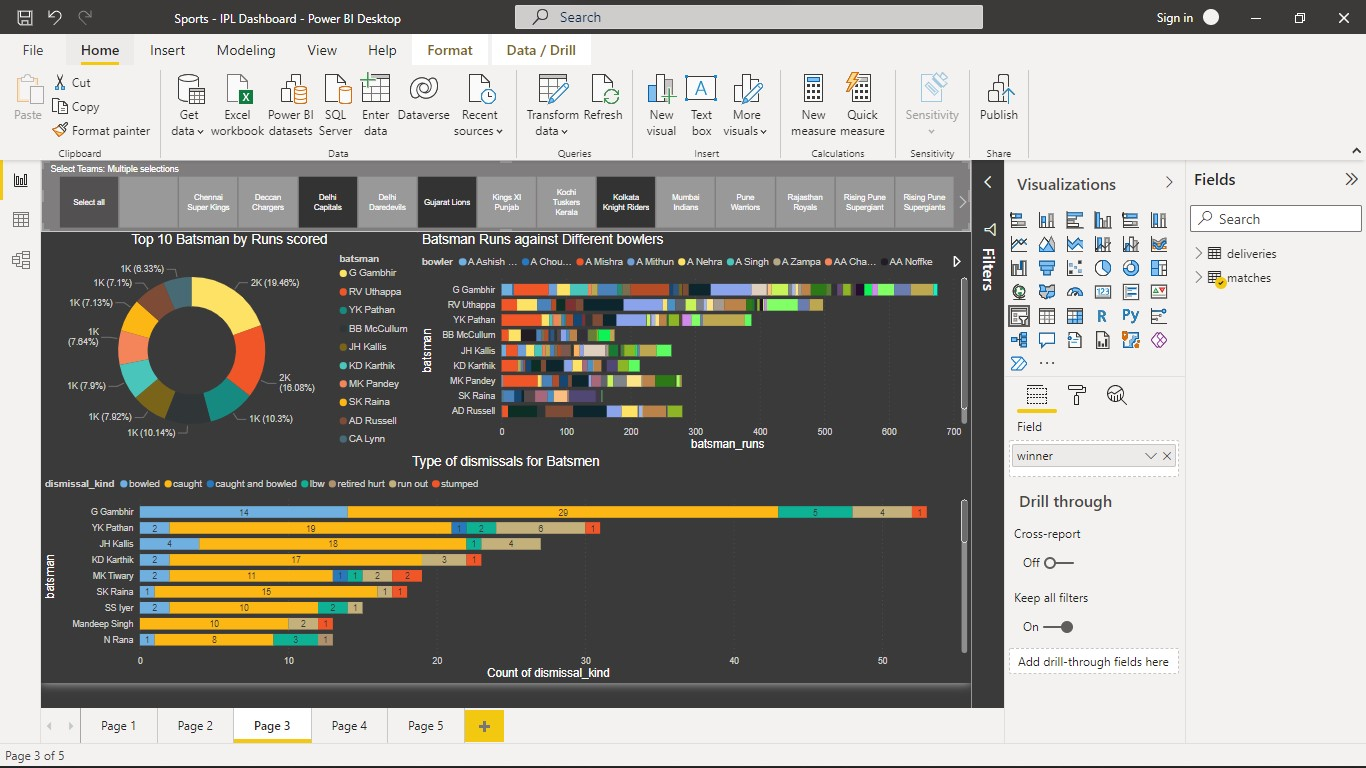

What the dashboard file says about the page in this screenshot:
{"tool":"powerbi","page":{"name":"Page 3","canvas":[1280,720],"ordinal":2},"visuals":[{"type":"slicer","fields":{"Values":["matches.winner"]},"box":[0,0,1279.8,99.6],"z":0},{"type":"donutChart","title":"Top 10 Batsman by Runs scored","fields":{"Y":["Sum(deliveries.batsman_runs)"],"Category":["deliveries.batsman"]},"box":[0,99.4,518.3,305.3],"z":1000},{"type":"barChart","title":"Batsman Runs against Different bowlers","fields":{"Category":["deliveries.batsman"],"Series":["deliveries.bowler"],"Y":["Sum(deliveries.batsman_runs)"]},"box":[518.3,99.4,761.2,305.3],"z":2000},{"type":"barChart","title":"Type of dismissals for Batsmen","fields":{"Category":["deliveries.batsman"],"Series":["deliveries.dismissal_kind"],"Y":["CountNonNull(deliveries.dismissal_kind)"]},"box":[0,404.7,1279.5,315.3],"z":3000}]}

Visuals, with their boxes on the page's 1280x720 design canvas (x1, y1, x2, y2). These are canvas units, not pixel positions in the 1366x768 screenshot, which may show the page scaled, cropped or inside an application window:
slicer - matches.winner: bbox(0, 0, 1280, 100)
"Top 10 Batsman by Runs scored" donutChart: bbox(0, 99, 518, 405)
"Batsman Runs against Different bowlers" barChart: bbox(518, 99, 1280, 405)
"Type of dismissals for Batsmen" barChart: bbox(0, 405, 1280, 720)
